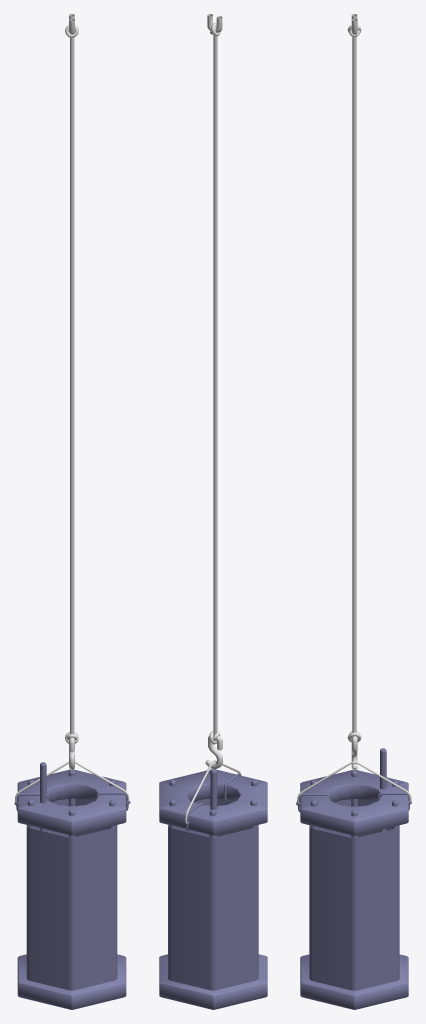
Rendered from Lantern.fbx.
3 views of the same model, side by side, from view 1: azimuth 90°, elevation 25°; view 2: azimuth 150°, elevation 25°; view 3: azimuth 270°, elevation 25° (orthographic).
Parts seen in each view (by area): view 1: Lantern_2, Lantern_1, LanternRope; view 2: Lantern_2, Lantern_1, LanternRope; view 3: Lantern_2, Lantern_1, LanternRope.
Boxes of the visible parts, x1,y1,x2,y2 form: Lantern_2: (26,799,117,990); Lantern_1: (14,762,130,1009); LanternRope: (15,14,129,802); Lantern_2: (168,798,258,990); Lantern_1: (159,769,267,1009); LanternRope: (185,14,241,822); Lantern_2: (309,799,399,990); Lantern_1: (296,748,411,1009); LanternRope: (297,14,411,802).
Size of the model in its own units: 15.07 by 129 by 14.03.
